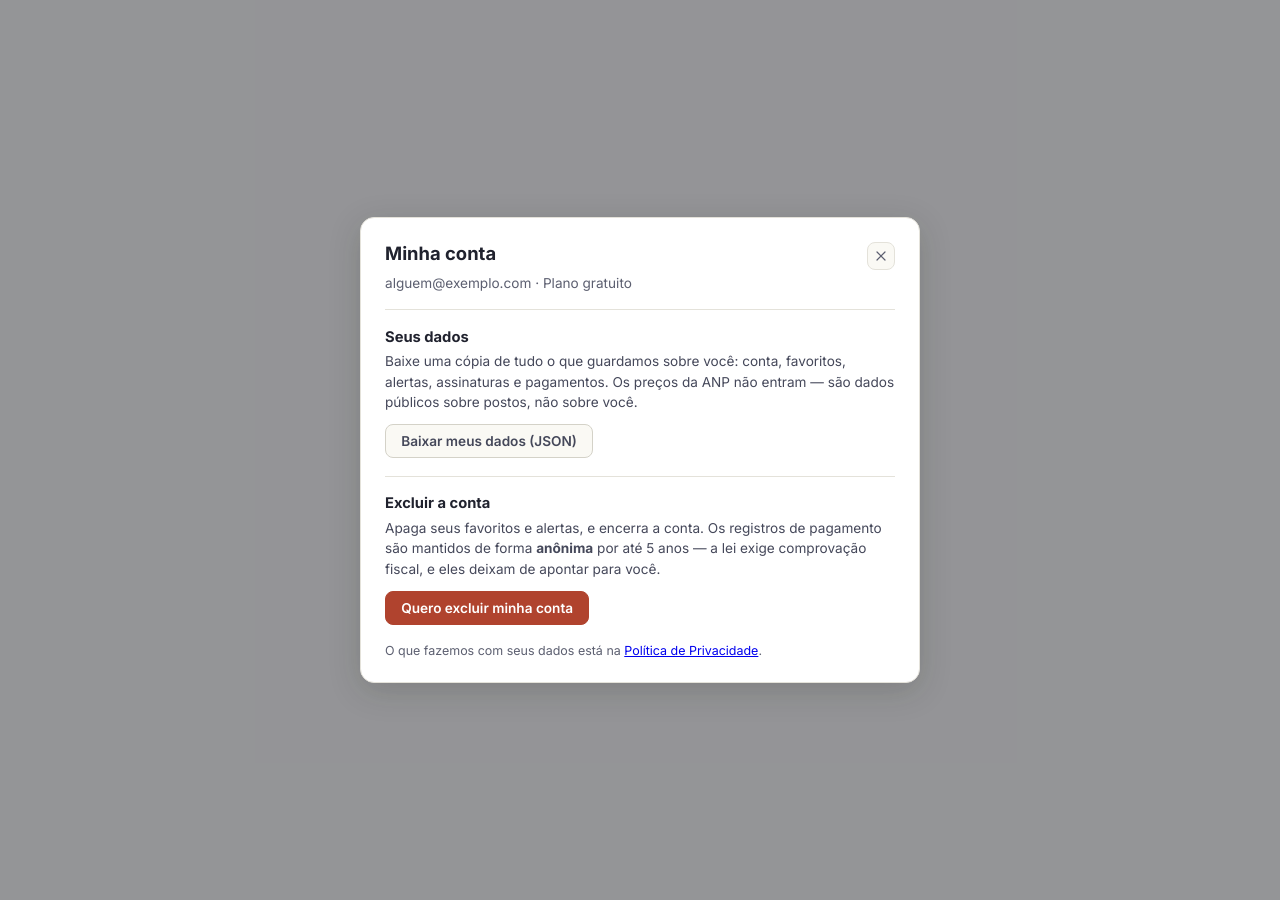
Scenario: exportar dados › baixa o arquivo e confirma na tela
The width and height of the screenshot is (1280, 900).
Click the button "Baixar meus dados (JSON)" at (489, 441), box [385,424,593,458]
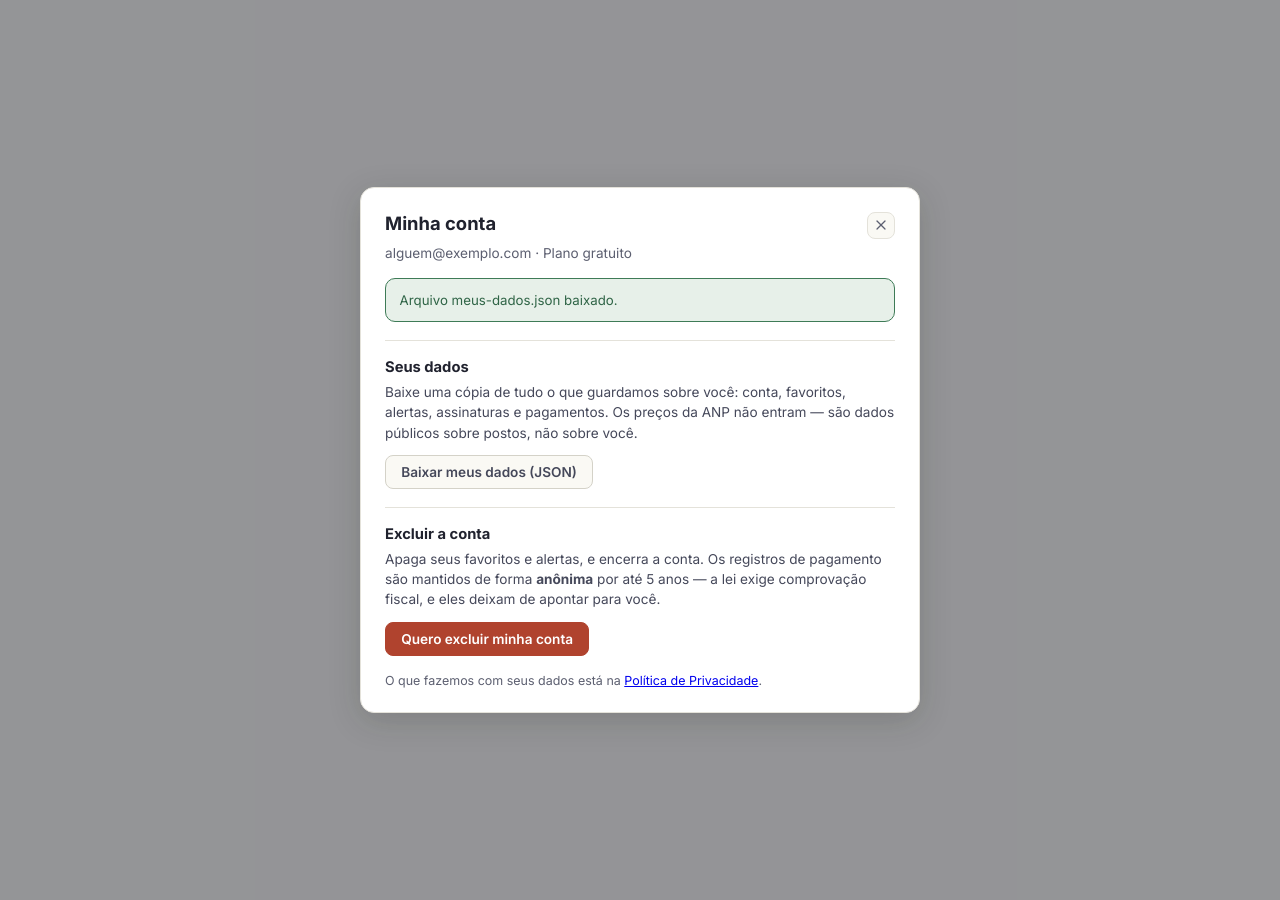
Check: the text "Arquivo meus-dados.json baixado." is shown, box [385,278,895,322]
